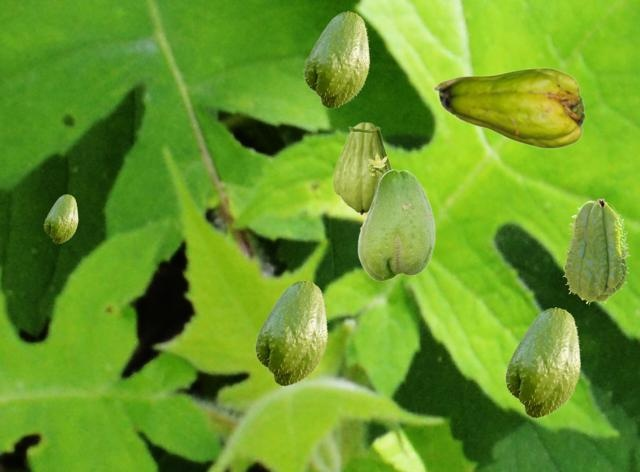sayote: (432, 67, 583, 148), (357, 169, 434, 280), (503, 307, 580, 418), (253, 280, 327, 386), (562, 198, 629, 304), (302, 11, 369, 108), (332, 122, 392, 214), (43, 194, 77, 243)
